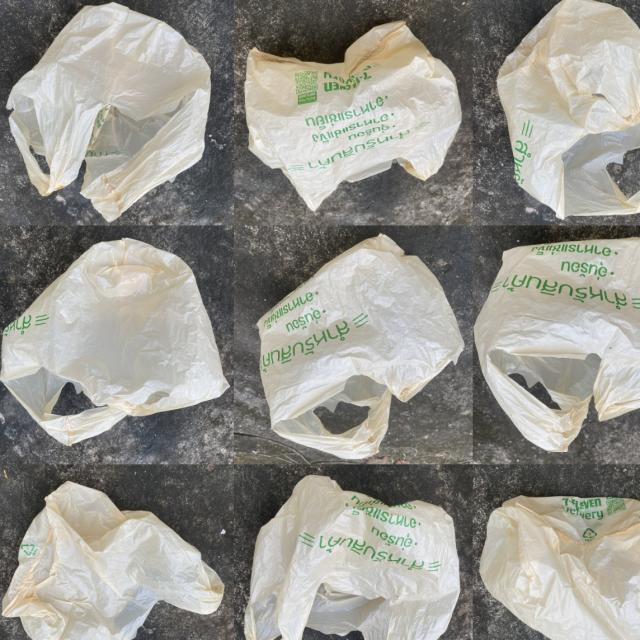plastik: (1, 239, 229, 446), (258, 234, 464, 460), (6, 3, 211, 222), (246, 22, 461, 211), (474, 237, 640, 451), (244, 476, 460, 640), (2, 482, 225, 640), (497, 0, 640, 219), (481, 497, 640, 640)
